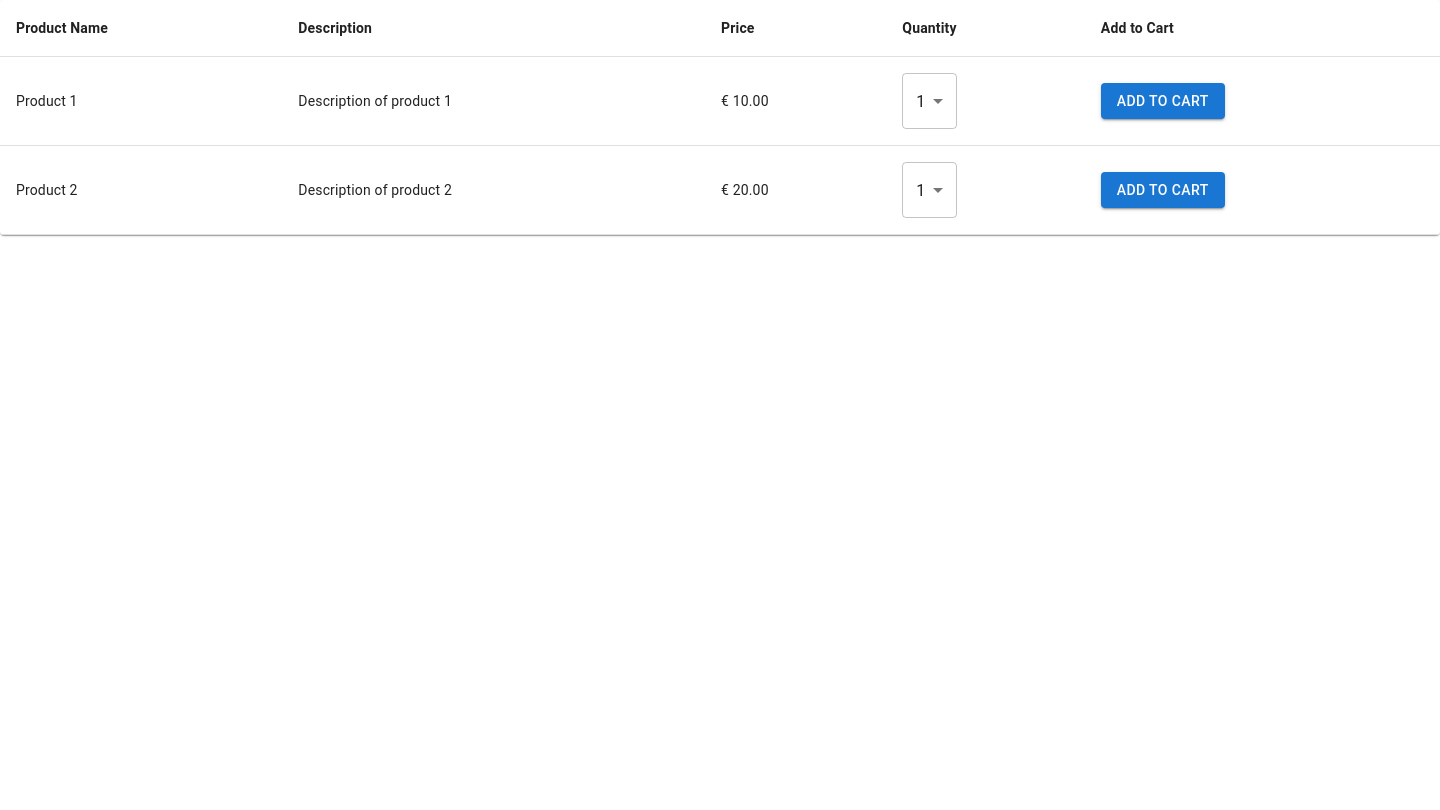
it: ProductTable Component › should display the Snackbar when a product is added
The image size is (1440, 810).
Click the button with test id "^add-to-cart-button-": [1163, 101] box [1101,83,1225,119]
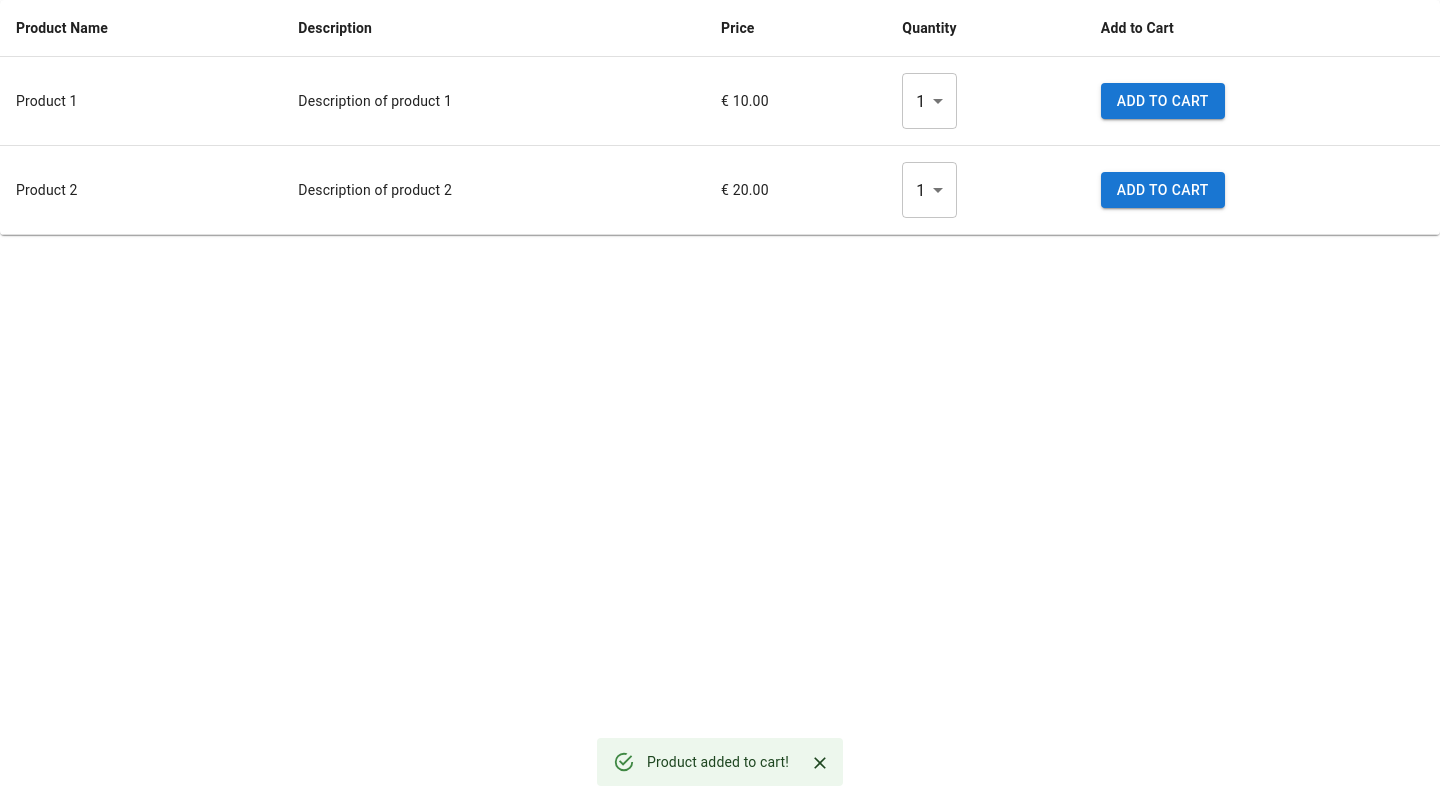
Result: the text "Product added to cart!" is shown at [647,754,789,770]
